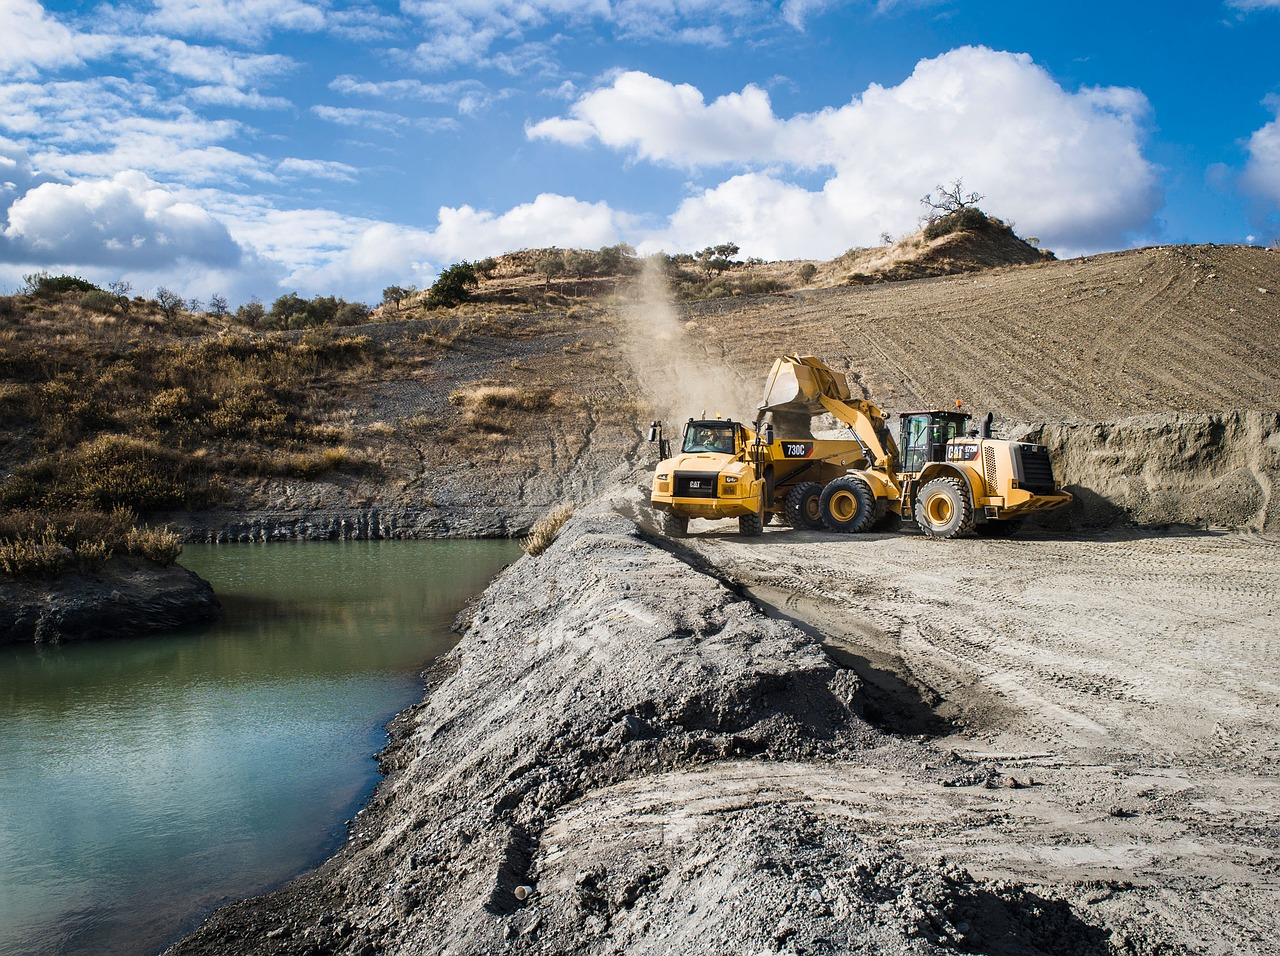excavator: (773, 353, 1071, 539)
truck: (648, 420, 860, 532)
